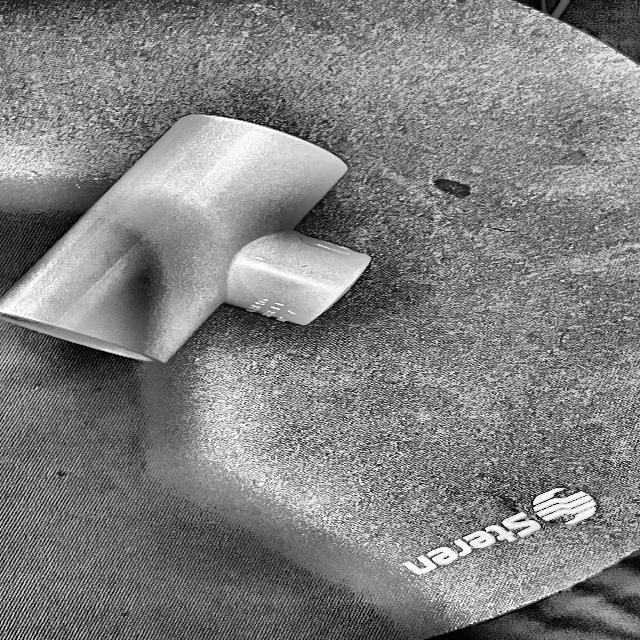EQUALTEE: (0, 114, 368, 366)
